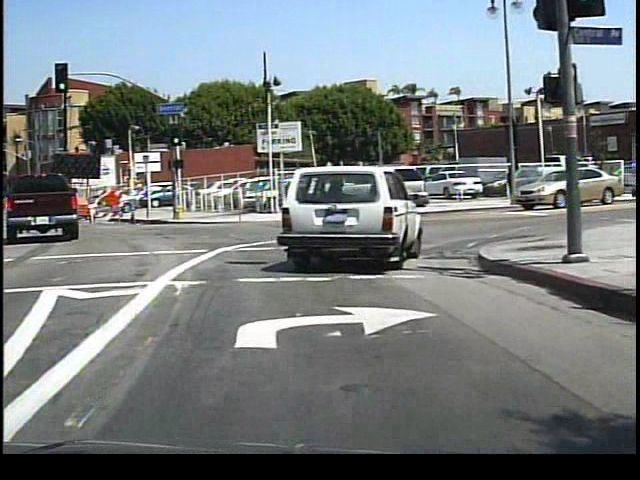person: (500, 160, 520, 204)
